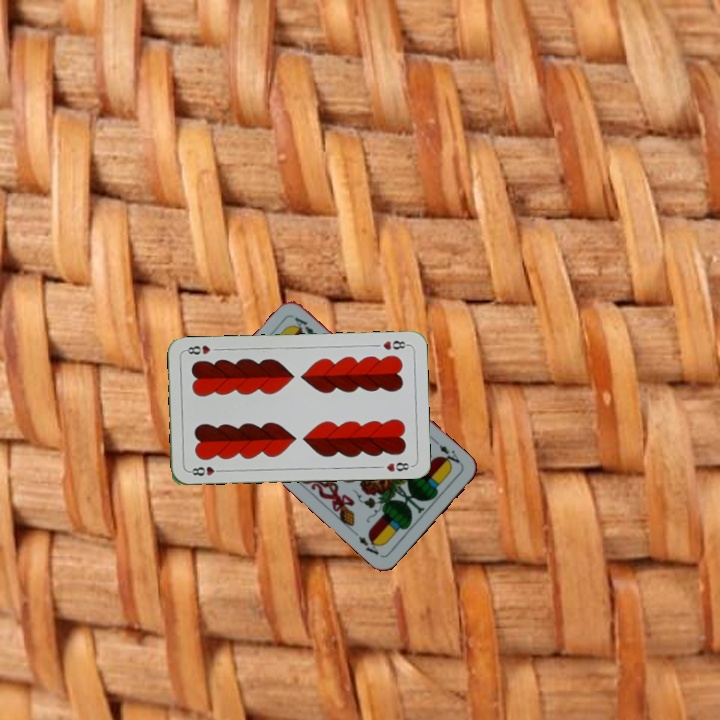EA: (435, 440, 464, 469)
H8: (185, 463, 226, 478), (379, 337, 411, 353)
